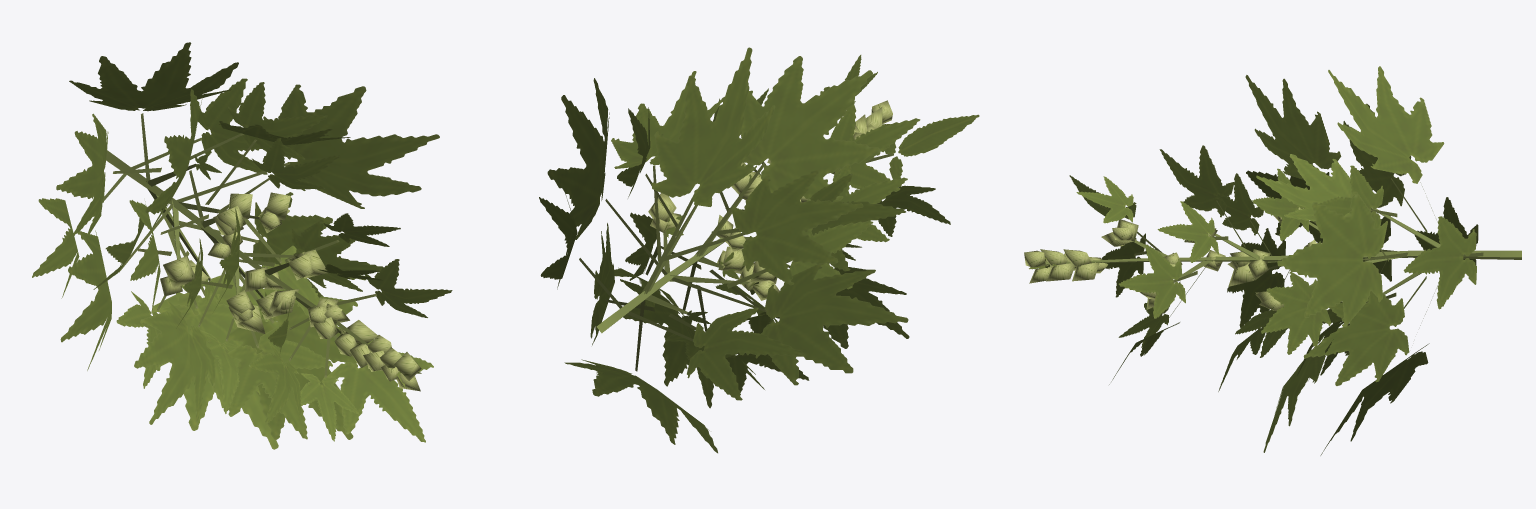
Rendered from p_male_hybrid_flowering_c1_cards.obj.
3 renders of one model, left to right at view 1: azimuth 30°, elevation 25°; view 2: azimuth 150°, elevation 25°; view 3: azimuth 270°, elevation 25°, orthographic. The views are drawn at different scales.
Bounding box in the file's own units: 1.44 × 1.56 × 1.74.
Materials: 1 (1 with a texture image).
